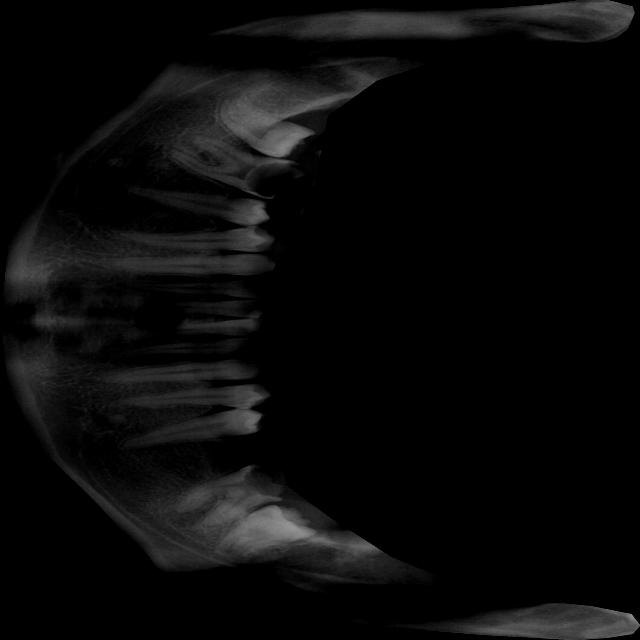mandibula: (0, 0, 640, 640)
